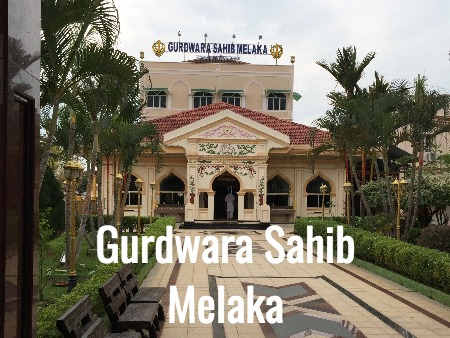Gurdwara: (61, 34, 347, 224)
